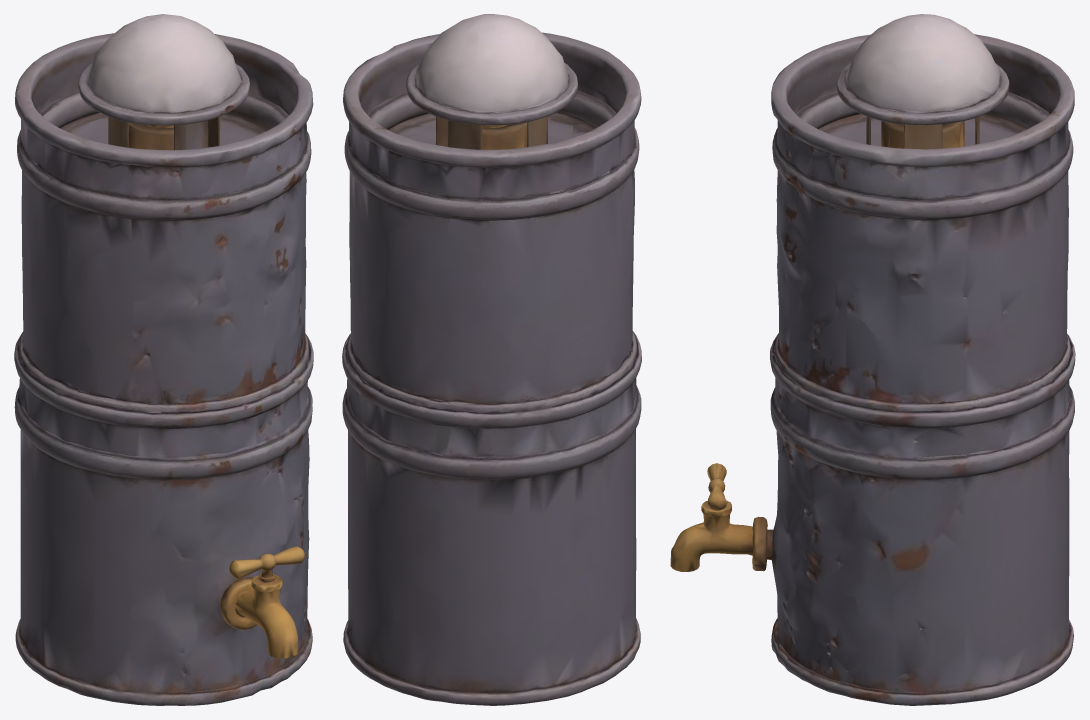
File: water_purifier_keramicheskiy_filtr_idle.glb
The picture shows the model from 3 angles, left to right: view 1: azimuth 30°, elevation 25°; view 2: azimuth 150°, elevation 25°; view 3: azimuth 270°, elevation 25°; orthographic projection.
Parts seen in each view (by area): view 1: tripo_node_c8721fcc-9d87-46f2-80eb-8a76088e086c; view 2: tripo_node_c8721fcc-9d87-46f2-80eb-8a76088e086c; view 3: tripo_node_c8721fcc-9d87-46f2-80eb-8a76088e086c.
Part boxes in pixels (x1,y1,x2,y2): tripo_node_c8721fcc-9d87-46f2-80eb-8a76088e086c: (14, 14, 313, 705); tripo_node_c8721fcc-9d87-46f2-80eb-8a76088e086c: (342, 14, 641, 705); tripo_node_c8721fcc-9d87-46f2-80eb-8a76088e086c: (670, 14, 1075, 705).
Bounding box in the file's own units: 0.4323 × 1 × 0.5874.
1 material, 1 textured.
